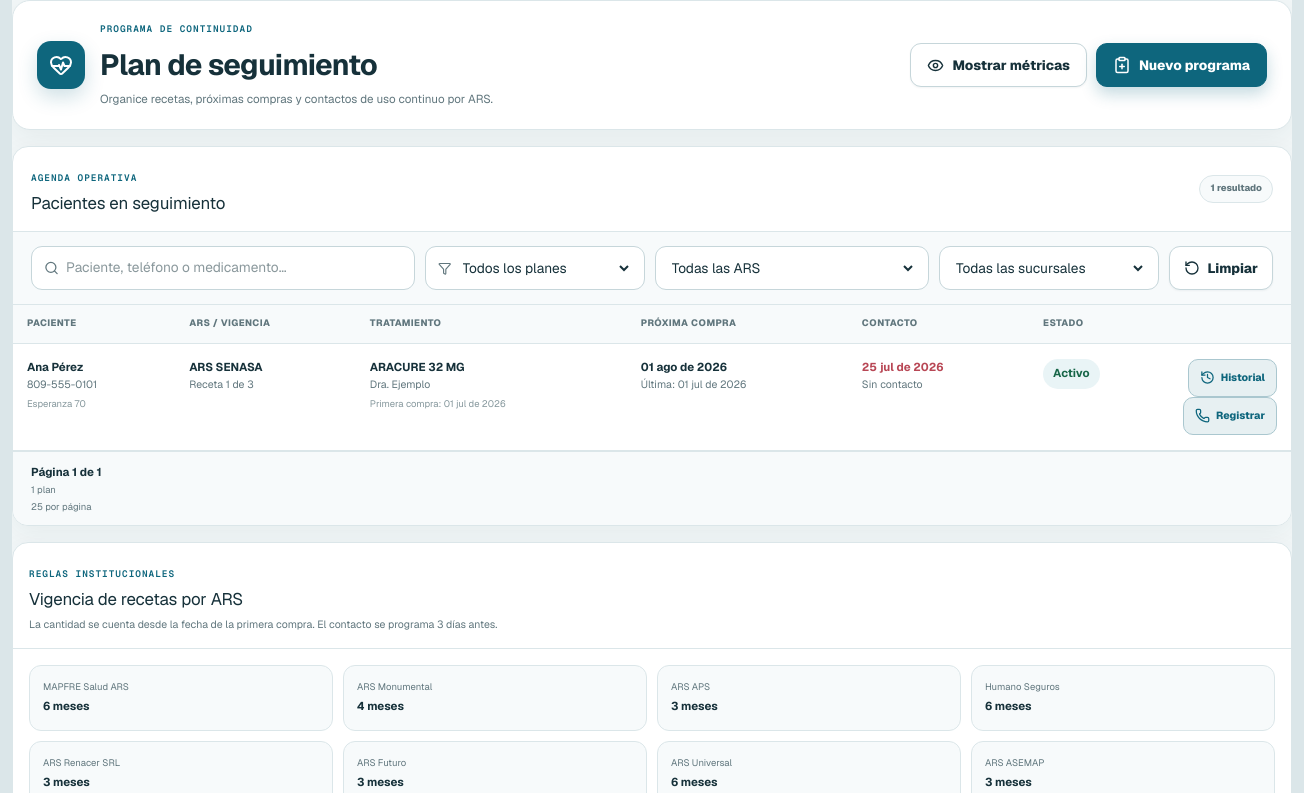
it: FollowUpWorkspace › presenta la operación de seguimiento y las reglas por ARS
Check: the heading "Plan de seguimiento" is shown, box [100, 46, 377, 84]
Check: the button "Contactar hoy" is not shown
Click the button "Mostrar métricas".
click(999, 65)  # box [910, 43, 1087, 87]
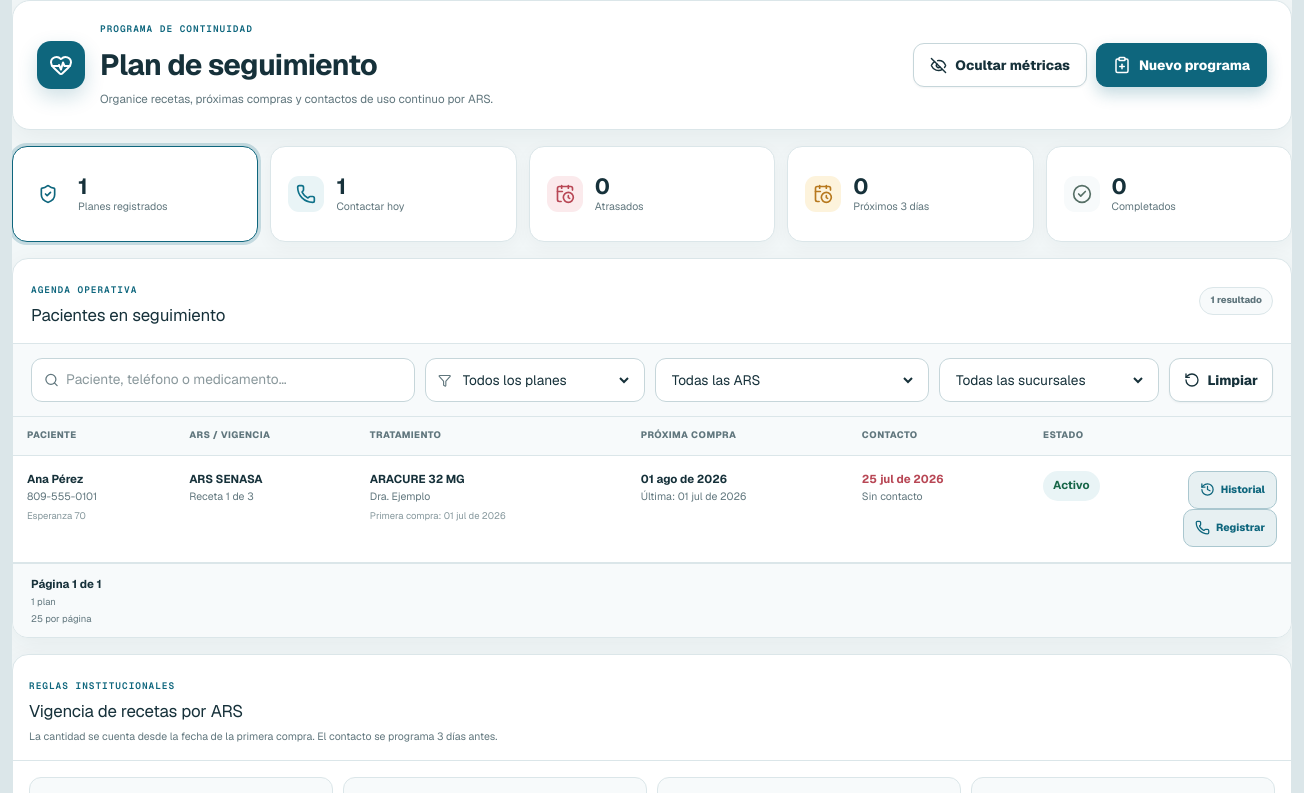
Check: the text "Receta 1 de 3" is shown, box [189, 489, 254, 503]
Check: the button "1 Contactar hoy" is shown, box [270, 146, 517, 242]
Check: the button "Ocultar métricas" is expanded, box [913, 43, 1087, 87]
